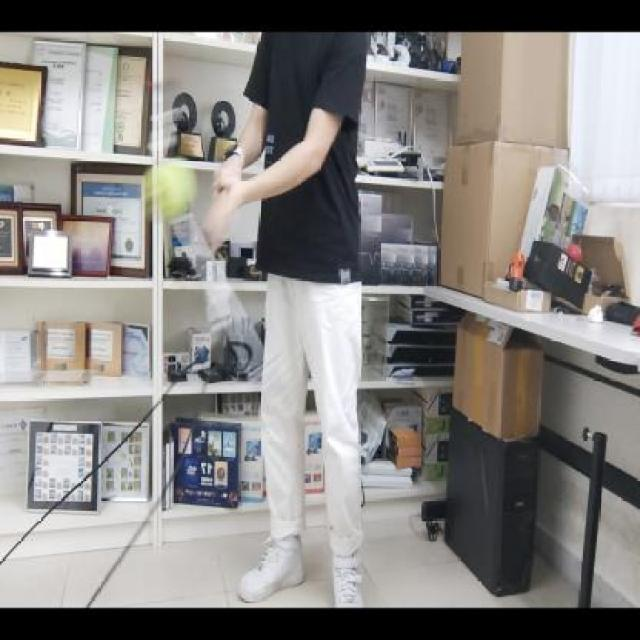baseball: (142, 158, 198, 220)
